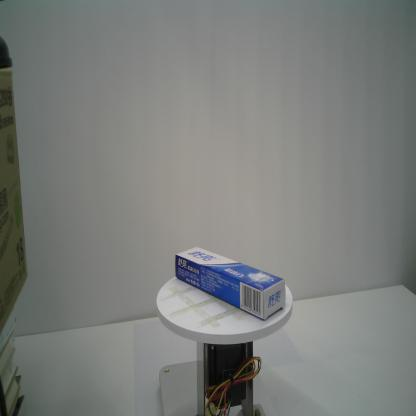Personal Hygiene: (175, 247, 286, 320)
